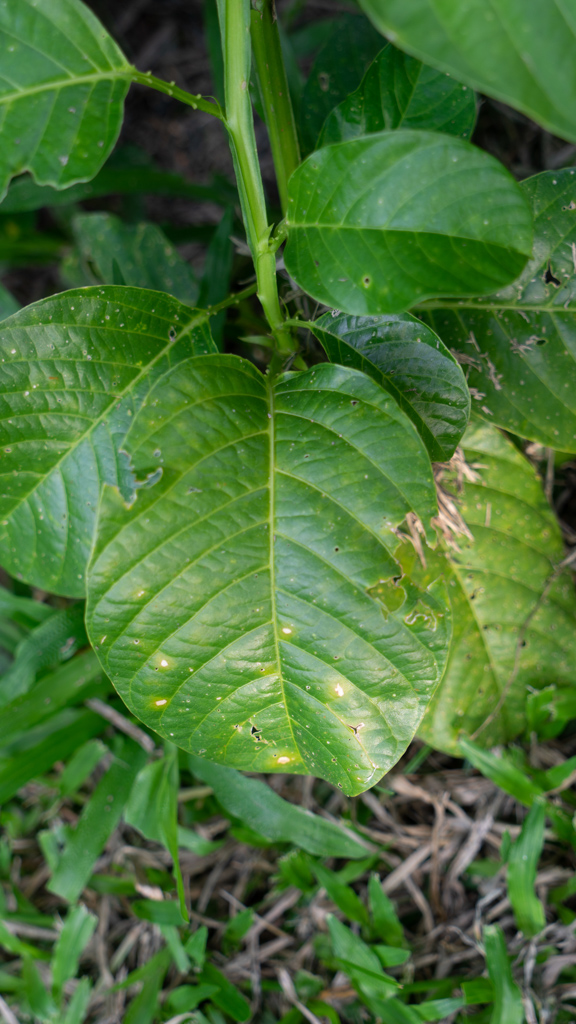Pepper yellow leaf: (125, 593, 380, 787)
